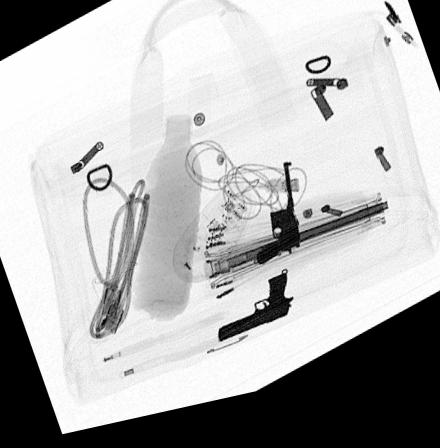Gun: (216, 284, 293, 352), (253, 173, 300, 277)
